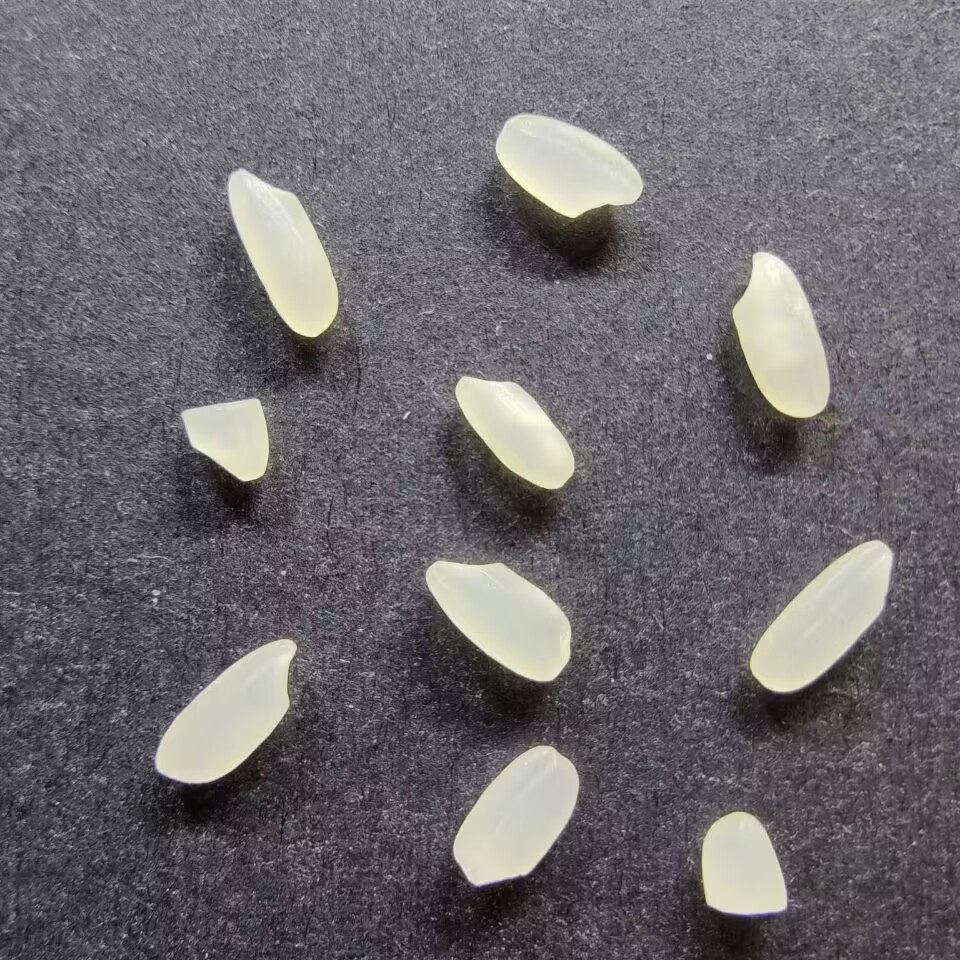broken: (699, 810, 790, 916), (179, 395, 271, 483)
rice: (748, 539, 896, 697), (154, 634, 297, 785), (227, 166, 340, 341), (422, 559, 576, 685), (452, 743, 580, 890), (730, 251, 831, 418), (492, 110, 644, 220), (454, 375, 576, 491)
